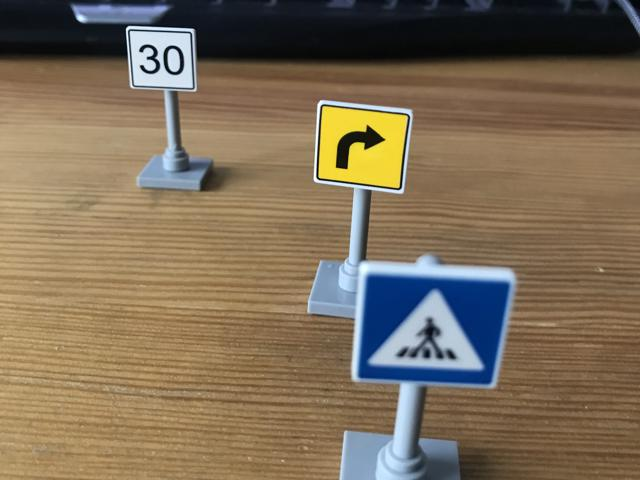fahrtrichtung rechts: (311, 98, 414, 193)
fußgängerüberweg: (349, 259, 515, 394)
tempolimit 30: (124, 24, 200, 90)
